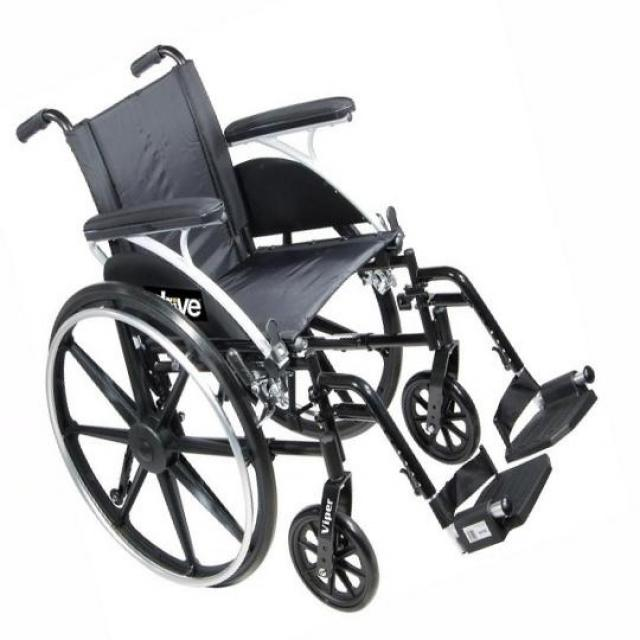wheelchair: (0, 40, 612, 624)
